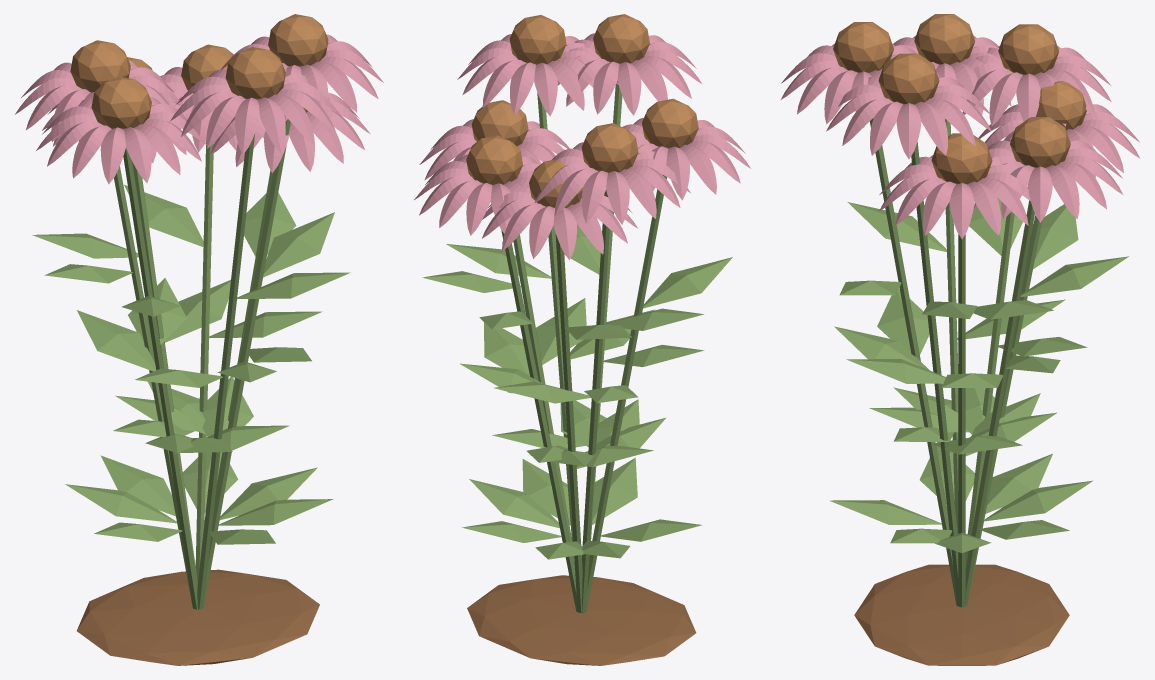
3 views of the same model, side by side, from view 1: azimuth 30°, elevation 25°; view 2: azimuth 150°, elevation 25°; view 3: azimuth 270°, elevation 25° (orthographic). The views are drawn at different scales.
Visible parts, largest first — view 1: GF-679 Echinacea flowering clump batched; view 2: GF-679 Echinacea flowering clump batched; view 3: GF-679 Echinacea flowering clump batched.
Boxes of the visible parts, x1=… form: GF-679 Echinacea flowering clump batched: x1=15, y1=14, x2=383, y2=665; GF-679 Echinacea flowering clump batched: x1=414, y1=14, x2=750, y2=665; GF-679 Echinacea flowering clump batched: x1=780, y1=14, x2=1139, y2=665.
Size of the model in its own units: 0.4083 by 0.744 by 0.401.
